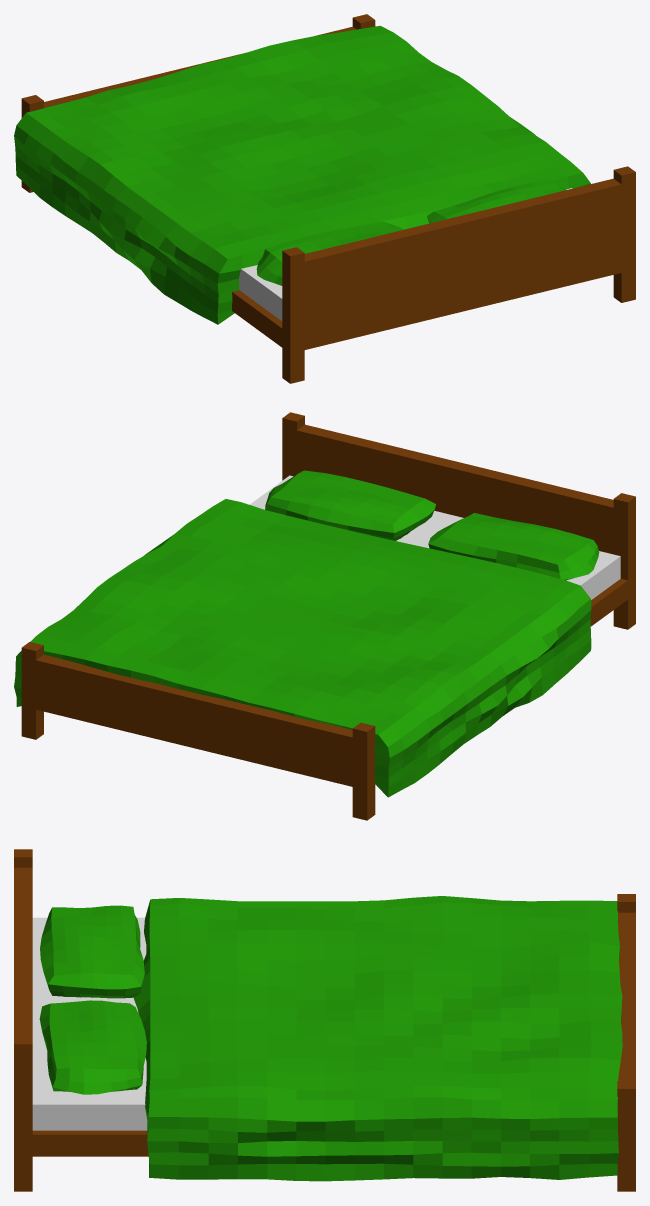
File: lit.fbx
3 views of the same model, one above another, from view 1: azimuth 30°, elevation 25°; view 2: azimuth 150°, elevation 25°; view 3: azimuth 270°, elevation 25° (orthographic). The views are drawn at different scales.
Parts seen in each view (by area): view 1: Cube.002, Cube, Cube.003, Cube.004, Cube.001; view 2: Cube.002, Cube, Cube.004, Cube.003, Cube.001; view 3: Cube.002, Cube, Cube.004, Cube.003, Cube.001.
Part boxes in pixels (left/top/right/bottom): Cube.002: left=14, top=25, right=590, bottom=324; Cube: left=21, top=14, right=635, bottom=383; Cube.003: left=256, top=221, right=403, bottom=285; Cube.004: left=427, top=179, right=566, bottom=223; Cube.001: left=239, top=188, right=572, bottom=320; Cube.002: left=14, top=499, right=591, bottom=797; Cube: left=21, top=412, right=635, bottom=820; Cube.004: left=265, top=470, right=435, bottom=540; Cube.003: left=428, top=513, right=599, bottom=580; Cube.001: left=250, top=475, right=620, bottom=599; Cube.002: left=133, top=896, right=622, bottom=1181; Cube: left=14, top=849, right=635, bottom=1191; Cube.004: left=39, top=1000, right=146, bottom=1094; Cube.003: left=40, top=905, right=144, bottom=998; Cube.001: left=32, top=917, right=147, bottom=1130.
Bounding box in the file's own units: 1353 × 422 × 1614.
